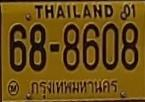0: (102, 23, 118, 69)
6: (9, 24, 26, 71), (82, 24, 99, 70)
8: (62, 23, 78, 70), (29, 24, 45, 70), (121, 23, 137, 69)
BKK: (28, 77, 120, 100)
